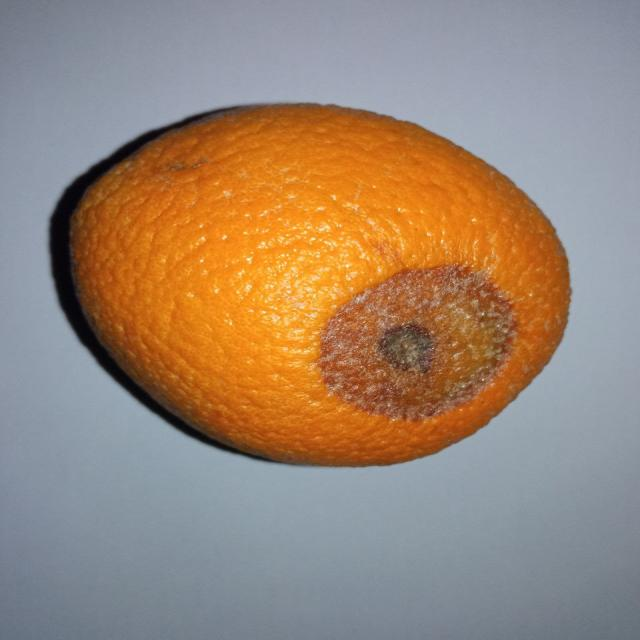rotten_orange: (69, 102, 568, 466)
